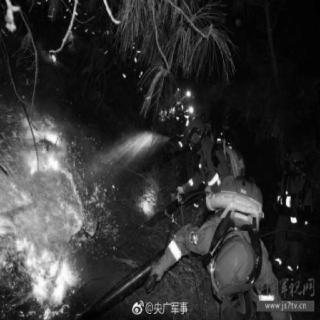other: (148, 220, 316, 318), (171, 90, 264, 222)
